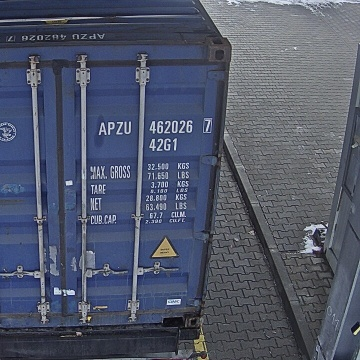serial_id: (98, 119, 211, 134)
